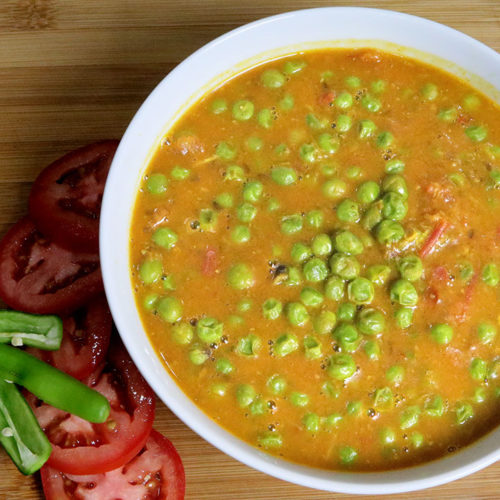curry: (130, 45, 500, 466)
